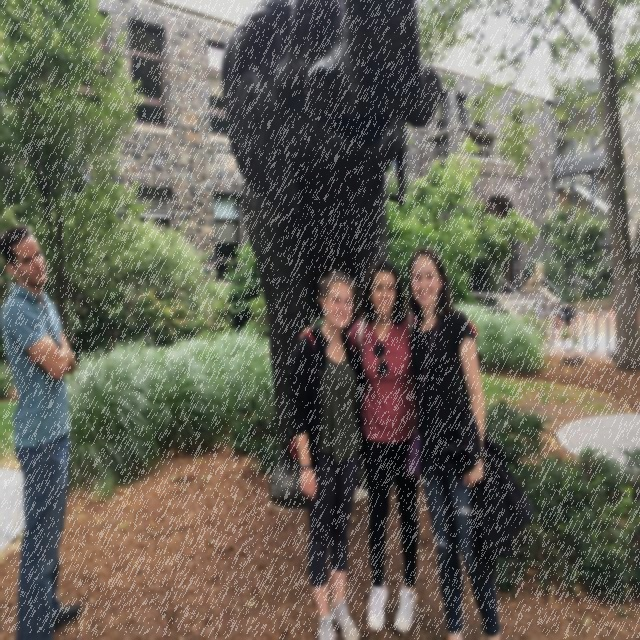pessoa: (297, 257, 480, 637), (406, 245, 506, 640), (0, 222, 85, 639), (282, 267, 363, 640)
